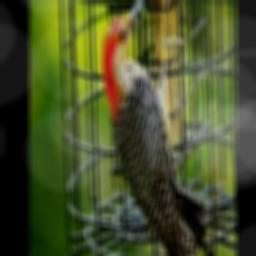Woodpecker: (102, 0, 208, 256)
